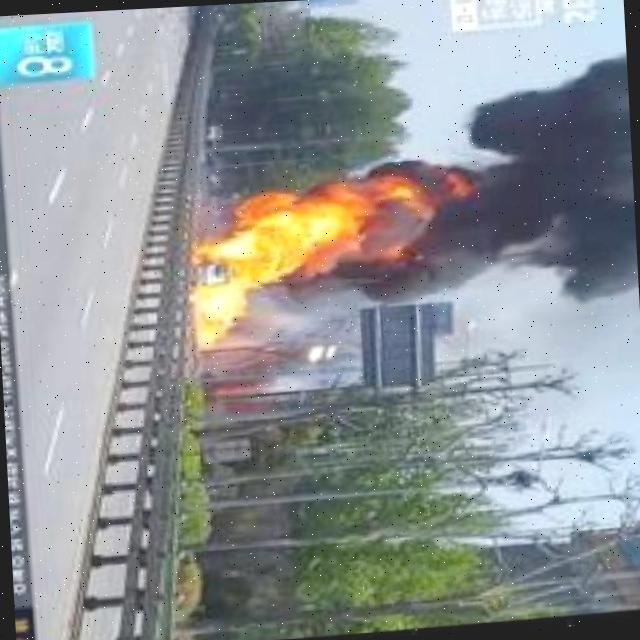fire: (226, 187, 350, 275), (197, 281, 239, 347), (196, 239, 224, 271)
